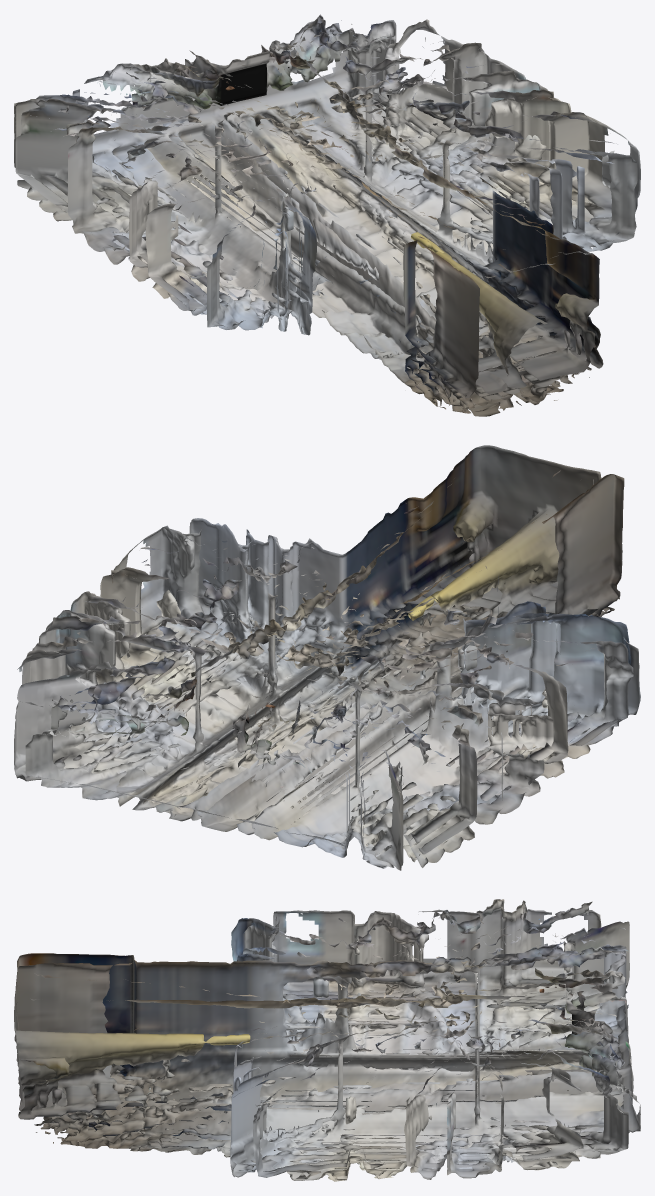
Rendered from collider.glb.
3 views of the same model, one above another, from view 1: azimuth 30°, elevation 25°; view 2: azimuth 150°, elevation 25°; view 3: azimuth 270°, elevation 25° (orthographic). The views are drawn at different scales.
Parts seen in each view (by area): view 1: world; view 2: world; view 3: world.
Part boxes in pixels (x1=…): world: x1=14, y1=14, x2=640, y2=416; world: x1=14, y1=445, x2=640, y2=870; world: x1=14, y1=899, x2=640, y2=1181.
Size of the model in its own units: 7.24 by 2.66 by 9.47.
